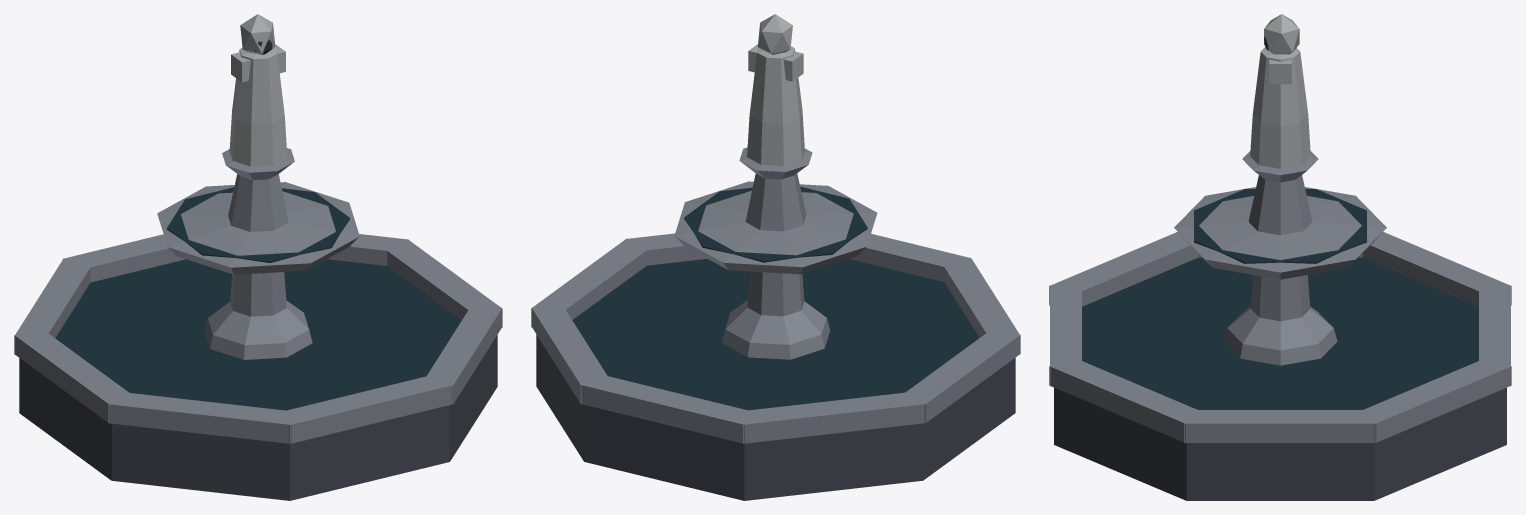
Rendered from gothic_fountain.glb.
The picture shows the model from 3 angles, left to right: view 1: azimuth 30°, elevation 25°; view 2: azimuth 150°, elevation 25°; view 3: azimuth 270°, elevation 25°; orthographic projection.
Parts seen in each view (by area): view 1: gothic_fountain; view 2: gothic_fountain; view 3: gothic_fountain.
Boxes of the visible parts, x1,y1,x2,y2 form: gothic_fountain: [14, 14, 502, 500]; gothic_fountain: [531, 14, 1020, 500]; gothic_fountain: [1049, 14, 1511, 500].
Size of the model in its own units: 4.34 by 4.05 by 4.34.
